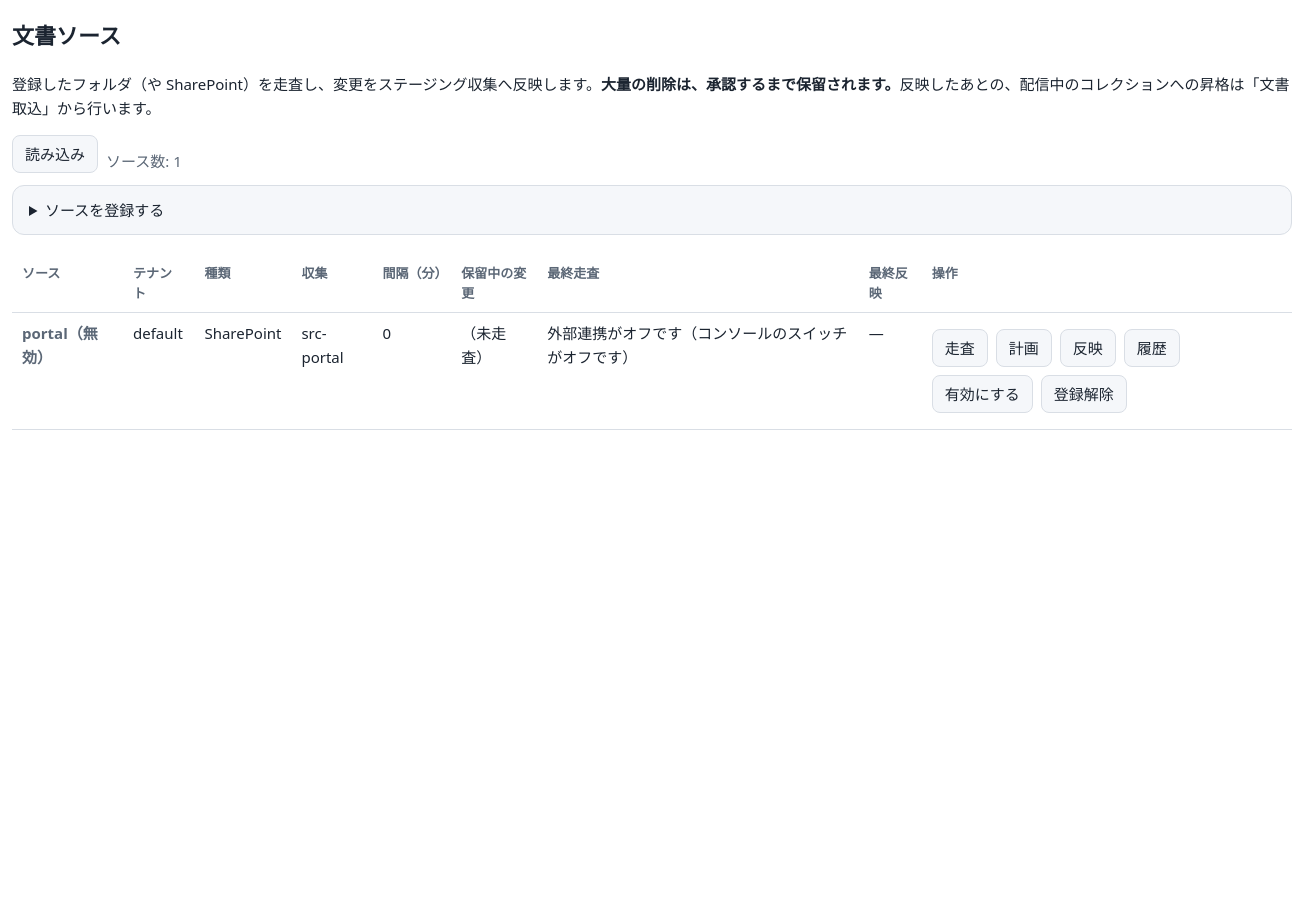
Scenario: the sources page: scan, plan, history › shows an integration that is off as a calm message with the reason and a link to the system page
The width and height of the screenshot is (1304, 900).
Step 1. Click the button with aria-label "走査: portal" → (960,348), box [932,329,988,367]
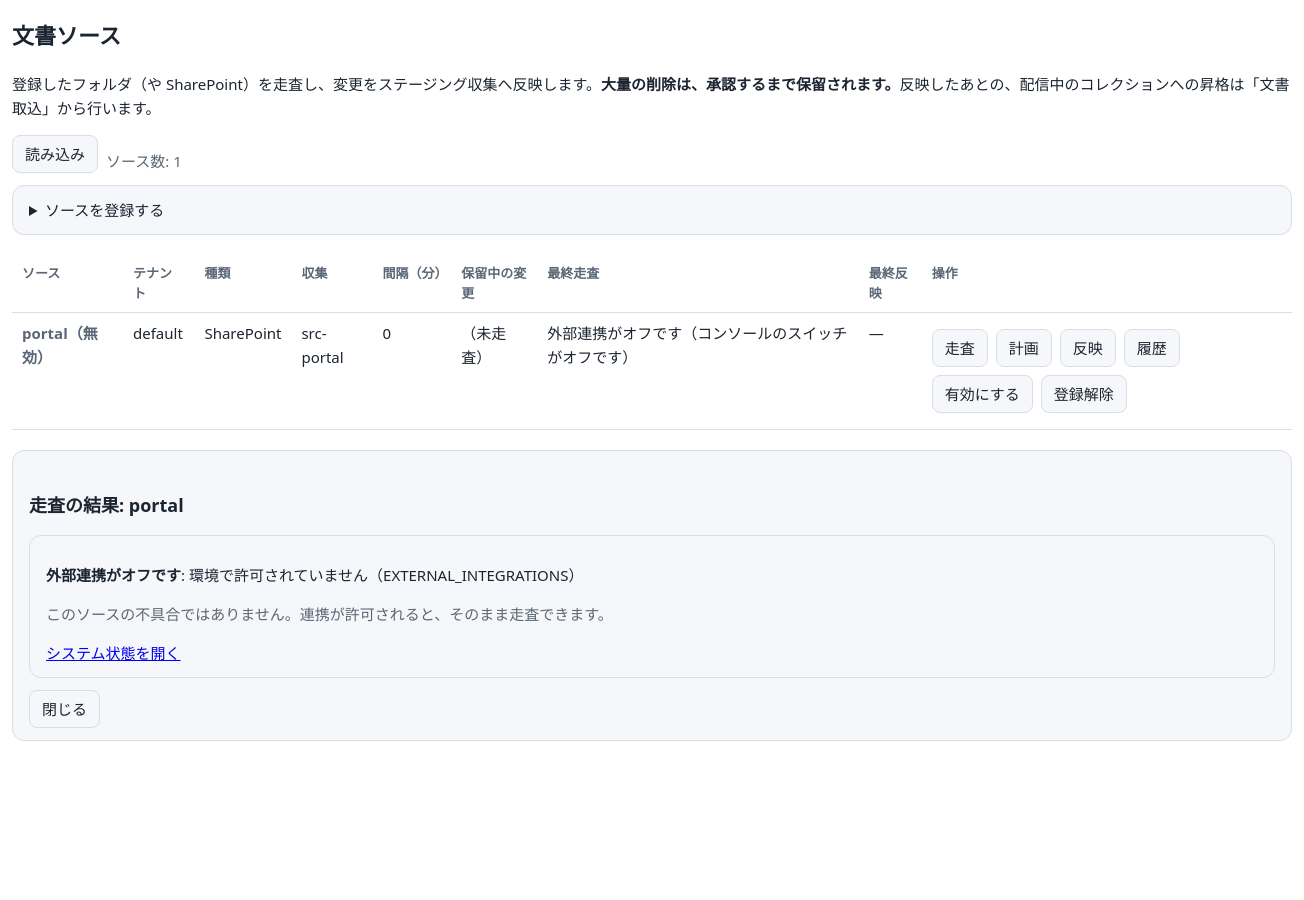
Now the text "外部連携がオフです" shows "環境で許可されていません（EXTERNAL_INTEGRATIONS）", box [189,565,583,585]
